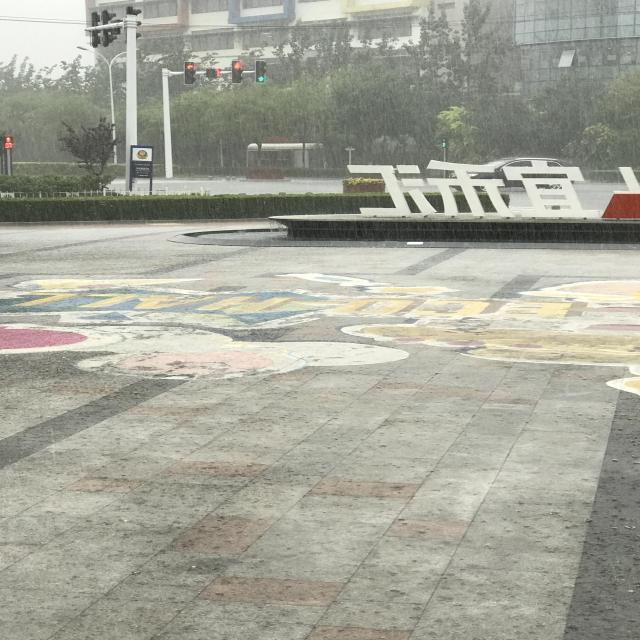car: (156, 64, 192, 189)
